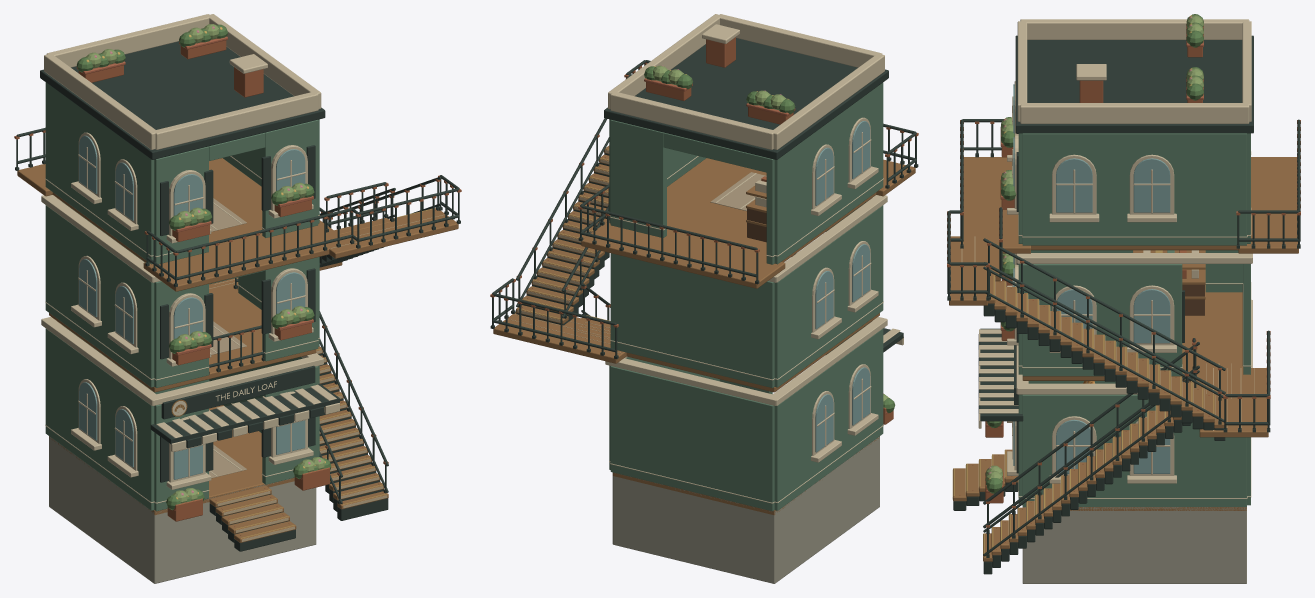
The model's file is juniper-house.glb.
The picture shows the model from 3 angles, left to right: view 1: azimuth 30°, elevation 25°; view 2: azimuth 150°, elevation 25°; view 3: azimuth 270°, elevation 25°; orthographic projection. The views are drawn at different scales.
Visible parts, largest first — view 1: juniper-house_Roof_Mesh, juniper-house_Shell2_Mesh, juniper-house_Shell1_Mesh, juniper-house_Shell0_Mesh, juniper-house_Level0_Mesh, juniper-house_Level2_Mesh, juniper-house_Architecture_Mesh, Shop awning.001_Mesh, juniper-house_Level1_Mesh, juniper-house_WallBase1_Mesh, juniper-house_WallBase2_Mesh, juniper-house_WallBase0_Mesh (+2 smaller); view 2: juniper-house_Shell0_Mesh, juniper-house_Shell1_Mesh, juniper-house_Roof_Mesh, juniper-house_Shell2_Mesh, juniper-house_Level0_Mesh, juniper-house_Level2_Mesh, juniper-house_Architecture_Mesh, juniper-house_Interior2_Mesh, juniper-house_WallBase1_Mesh, juniper-house_WallBase2_Mesh, juniper-house_WallBase0_Mesh, juniper-house_Level1_Mesh; view 3: juniper-house_Architecture_Mesh, juniper-house_Shell2_Mesh, juniper-house_Roof_Mesh, juniper-house_Shell0_Mesh, juniper-house_Shell1_Mesh, juniper-house_Level0_Mesh, juniper-house_Level2_Mesh, juniper-house_Level1_Mesh, Shop awning.001_Mesh, juniper-house_Interior1_Mesh, juniper-house_WallBase1_Mesh, juniper-house_WallBase2_Mesh.
Part boxes in pixels (bbox=[...]): juniper-house_Roof_Mesh: bbox=[40, 14, 325, 159]; juniper-house_Shell2_Mesh: bbox=[45, 82, 319, 264]; juniper-house_Shell1_Mesh: bbox=[41, 195, 319, 387]; juniper-house_Shell0_Mesh: bbox=[41, 317, 323, 511]; juniper-house_Level0_Mesh: bbox=[49, 405, 331, 583]; juniper-house_Level2_Mesh: bbox=[14, 127, 461, 291]; juniper-house_Architecture_Mesh: bbox=[209, 176, 441, 551]; Shop awning.001_Mesh: bbox=[150, 365, 339, 451]; juniper-house_Level1_Mesh: bbox=[49, 288, 316, 392]; juniper-house_WallBase1_Mesh: bbox=[45, 284, 319, 386]; juniper-house_WallBase2_Mesh: bbox=[45, 156, 319, 263]; juniper-house_WallBase0_Mesh: bbox=[45, 403, 294, 508]; juniper-house_Shell0_Mesh: bbox=[605, 317, 887, 511]; juniper-house_Shell1_Mesh: bbox=[610, 195, 887, 387]; juniper-house_Roof_Mesh: bbox=[604, 14, 888, 159]; juniper-house_Shell2_Mesh: bbox=[609, 82, 883, 264]; juniper-house_Level0_Mesh: bbox=[612, 393, 895, 583]; juniper-house_Level2_Mesh: bbox=[578, 60, 918, 288]; juniper-house_Architecture_Mesh: bbox=[490, 73, 631, 363]; juniper-house_Interior2_Mesh: bbox=[710, 172, 766, 242]; juniper-house_WallBase1_Mesh: bbox=[610, 301, 883, 386]; juniper-house_WallBase2_Mesh: bbox=[609, 156, 883, 264]; juniper-house_WallBase0_Mesh: bbox=[609, 425, 883, 509]; juniper-house_Level1_Mesh: bbox=[626, 254, 879, 392]; juniper-house_Architecture_Mesh: bbox=[952, 238, 1270, 574]; juniper-house_Shell2_Mesh: bbox=[1000, 81, 1250, 245]; juniper-house_Roof_Mesh: bbox=[1015, 14, 1253, 133]; juniper-house_Shell0_Mesh: bbox=[1007, 299, 1252, 506]; juniper-house_Shell1_Mesh: bbox=[1000, 250, 1252, 376]; juniper-house_Level0_Mesh: bbox=[985, 421, 1246, 583]; juniper-house_Level2_Mesh: bbox=[947, 119, 1300, 305]; juniper-house_Level1_Mesh: bbox=[1022, 292, 1243, 380]; Shop awning.001_Mesh: bbox=[978, 328, 1023, 428]; juniper-house_Interior1_Mesh: bbox=[1133, 250, 1205, 315]; juniper-house_WallBase1_Mesh: bbox=[1018, 282, 1251, 375]; juniper-house_WallBase2_Mesh: bbox=[1018, 151, 1251, 245].
Size of the model in its own units: 8.06 by 12.68 by 8.2.
